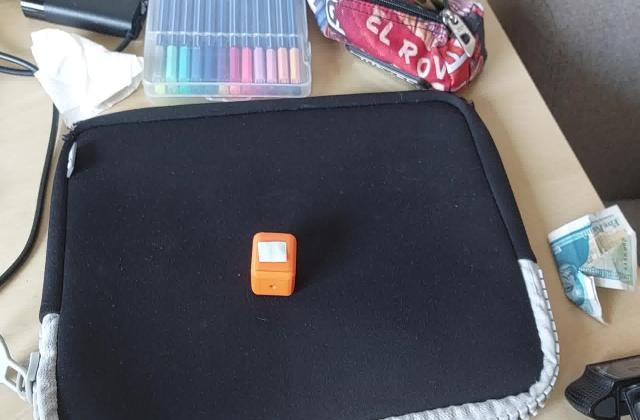sticker: (250, 232, 300, 298)
white: (256, 240, 292, 266)
